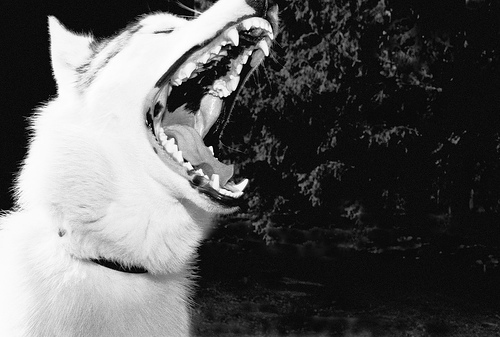dog: (0, 0, 282, 336)
